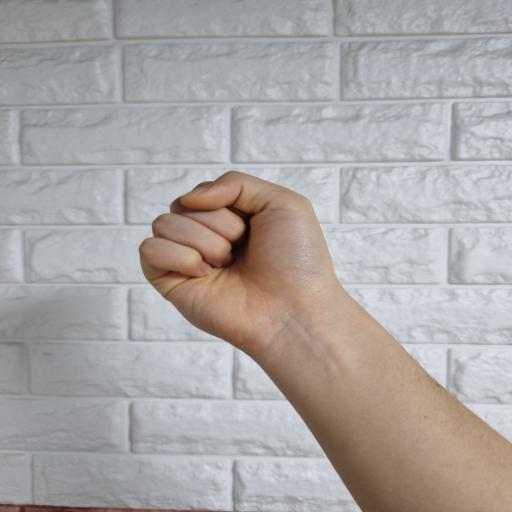Rock: (139, 170, 334, 354)
